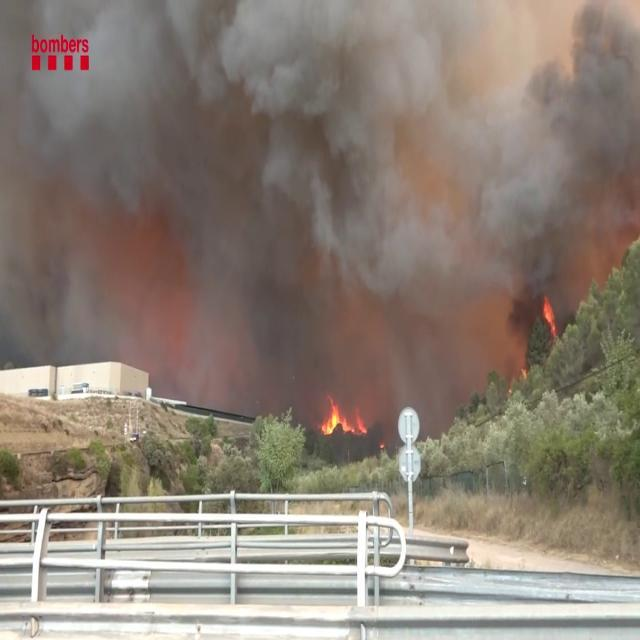Fire: (318, 399, 358, 442)
Smoke: (2, 1, 638, 412)
